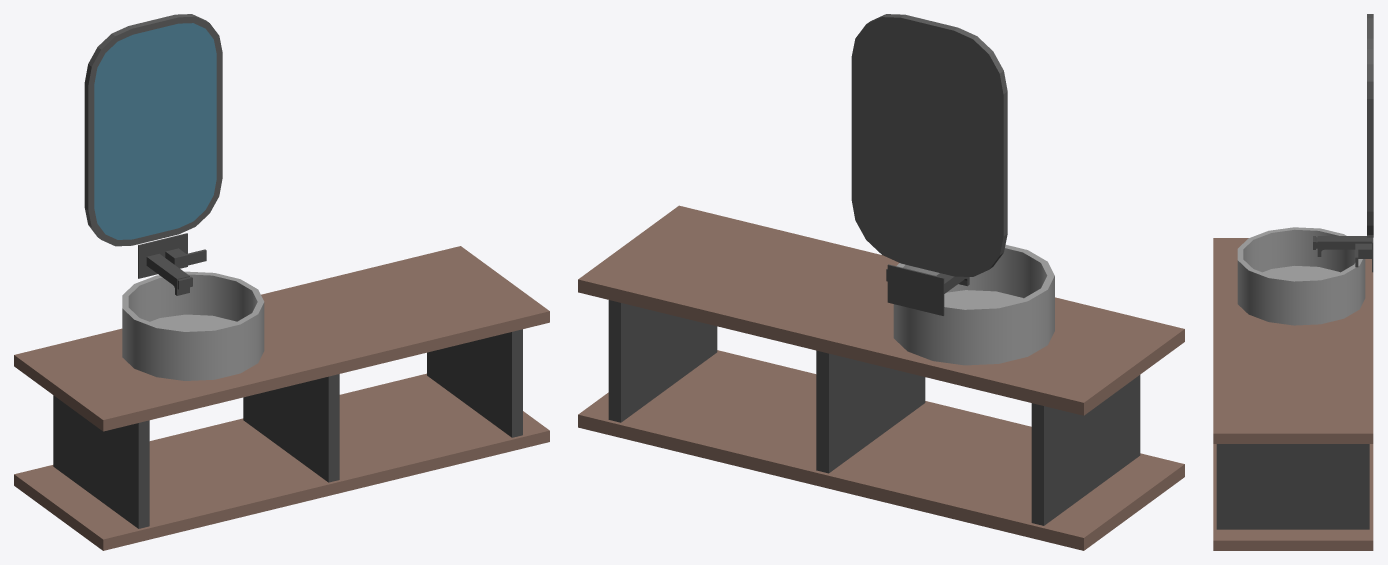
The model's file is bathroom_furniture005.glb.
The picture shows the model from 3 angles, left to right: view 1: azimuth 30°, elevation 25°; view 2: azimuth 150°, elevation 25°; view 3: azimuth 270°, elevation 25°; orthographic projection. The views are drawn at different scales.
Parts seen in each view (by area): view 1: bathroom_furniture.005; view 2: bathroom_furniture.005; view 3: bathroom_furniture.005.
Part boxes in pixels (x1=…): bathroom_furniture.005: x1=14, y1=14, x2=549, y2=550; bathroom_furniture.005: x1=578, y1=14, x2=1184, y2=550; bathroom_furniture.005: x1=1213, y1=14, x2=1373, y2=550.
Bounding box in the file's own units: 1.52 × 1.4 × 0.5253.
1 material, 1 textured.
